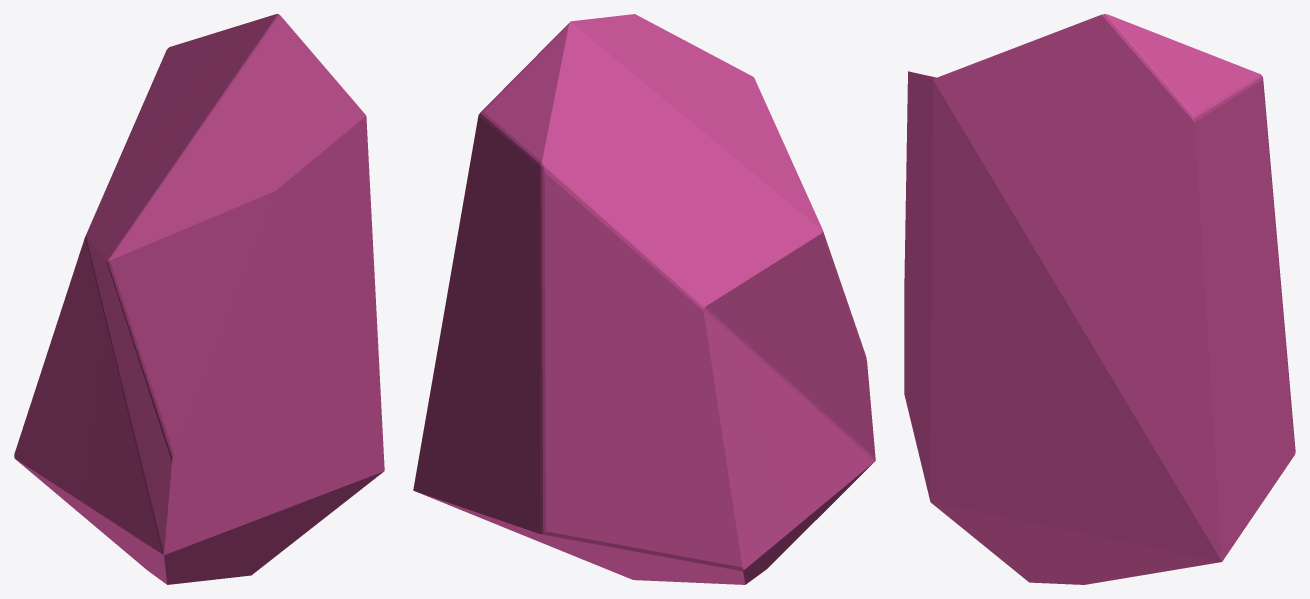
Rendered from pikapika.fbx.
The picture shows the model from 3 angles, left to right: view 1: azimuth 30°, elevation 25°; view 2: azimuth 150°, elevation 25°; view 3: azimuth 270°, elevation 25°; orthographic projection. The views are drawn at different scales.
Visible parts, largest first — view 1: pCube1; view 2: pCube1; view 3: pCube1.
Part boxes in pixels (bbox=[...]): pCube1: bbox=[14, 14, 384, 584]; pCube1: bbox=[413, 14, 875, 584]; pCube1: bbox=[904, 14, 1295, 584].
Bounding box in the file's own units: 0.6247 × 1 × 0.5907.
